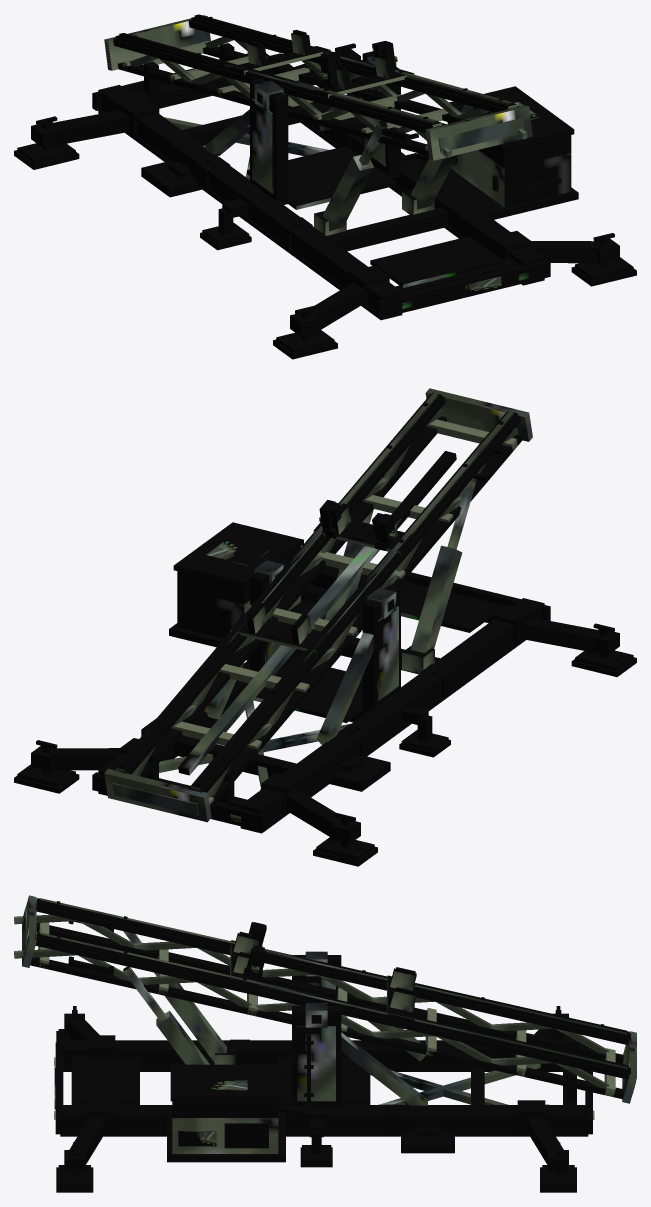
The picture shows the model from 3 angles, top to bottom: view 1: azimuth 30°, elevation 25°; view 2: azimuth 150°, elevation 25°; view 3: azimuth 270°, elevation 25°; orthographic projection. The views are drawn at different scales.
Visible parts, largest first — view 1: lp02; view 2: lp02; view 3: lp02.
Boxes of the visible parts, <box> form: lp02: <box>14,14,636,359</box>; lp02: <box>14,388,636,866</box>; lp02: <box>14,895,636,1192</box>.
Bounding box in the file's own units: 3.03 × 1.78 × 5.07.
